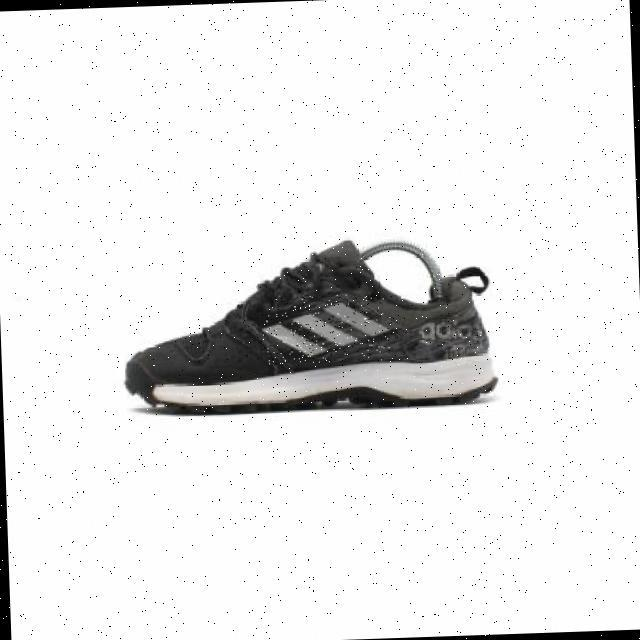Adidas: (261, 293, 394, 364)
